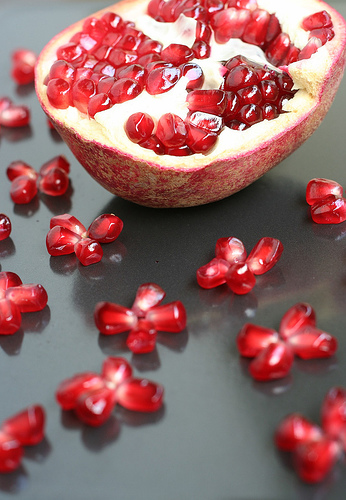pomogranate: (33, 0, 344, 211)
